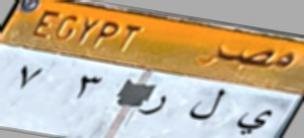3: (70, 71, 108, 108)
7: (14, 59, 44, 94)
laam: (186, 81, 225, 130)
raa: (137, 94, 169, 123)
yaa: (235, 107, 273, 138)
